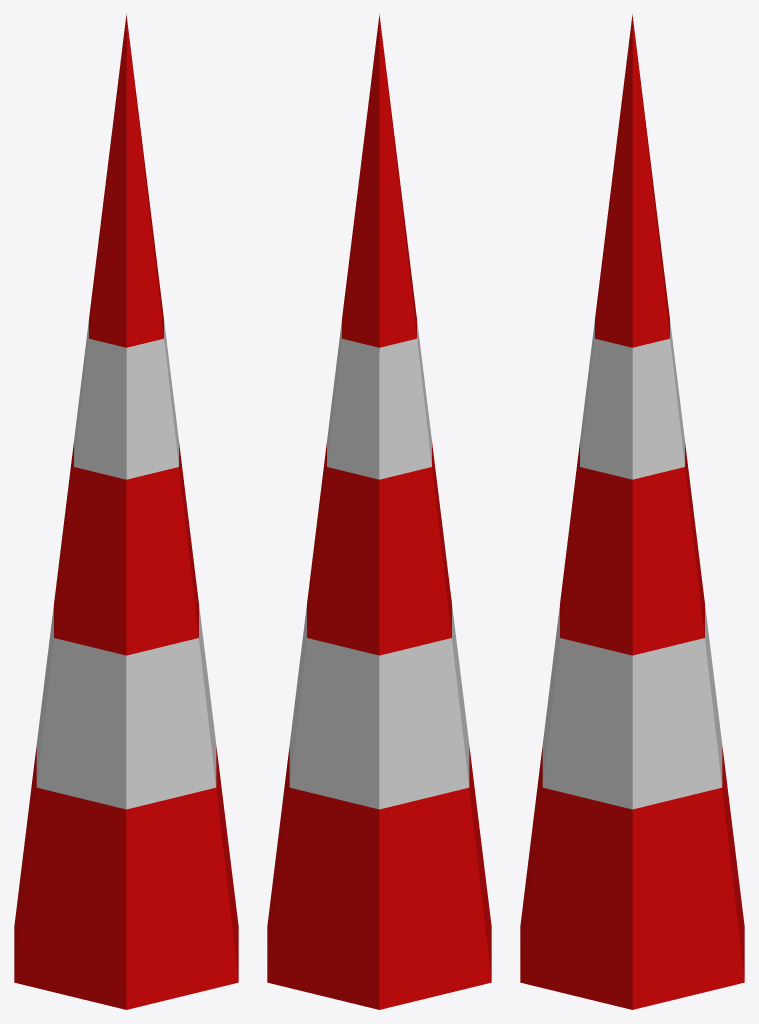
Rendered from Spike.fbx.
3 renders of one model, left to right at view 1: azimuth 30°, elevation 25°; view 2: azimuth 150°, elevation 25°; view 3: azimuth 270°, elevation 25°, orthographic.
Visible parts, largest first — view 1: pCone1; view 2: pCone1; view 3: pCone1.
Boxes of the visible parts, x1,y1,x2,y2 form: pCone1: [14, 14, 238, 1009]; pCone1: [267, 14, 491, 1009]; pCone1: [520, 14, 744, 1009].
Size of the model in its own units: 1.38 by 5.51 by 1.19.
